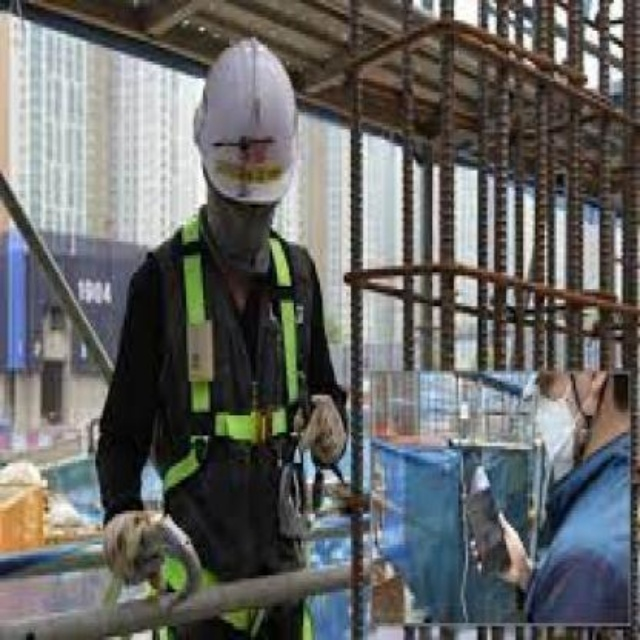Arnes_seguridad: (156, 197, 322, 640)
